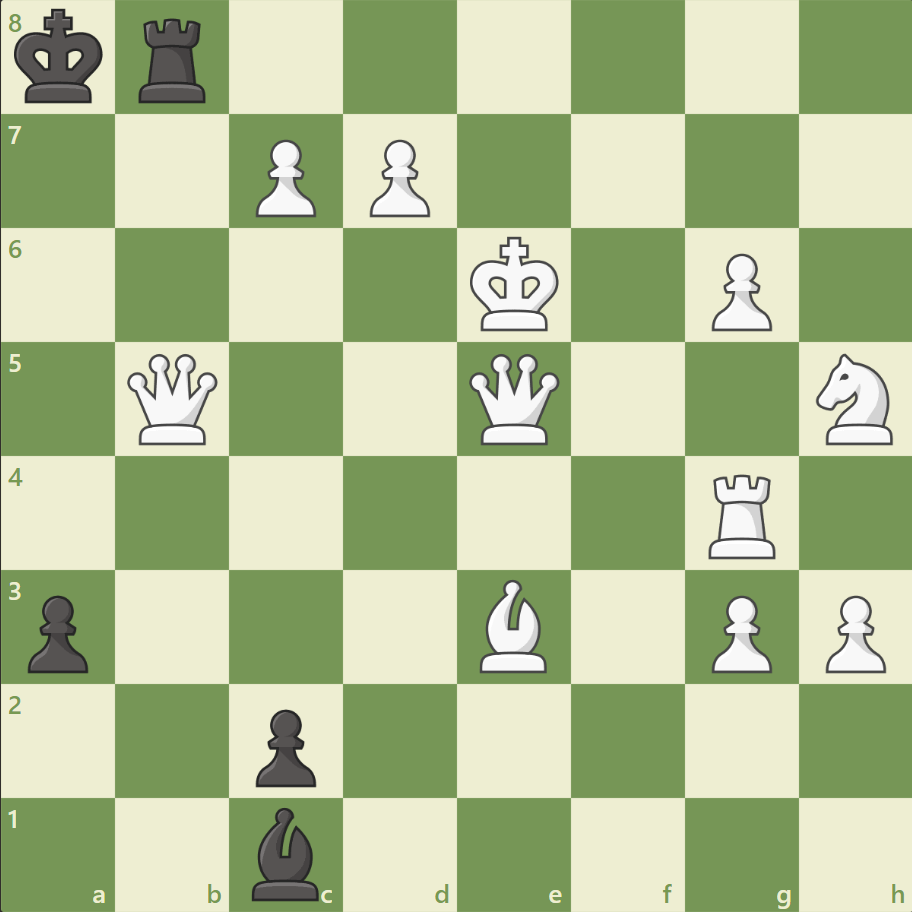B: (471, 574, 555, 676)
K: (465, 231, 565, 339)
N: (806, 348, 903, 450)
P: (247, 132, 322, 223), (701, 246, 776, 337), (701, 586, 776, 677), (361, 132, 435, 223), (815, 586, 889, 677)
Q: (124, 349, 223, 449), (464, 349, 563, 449)
R: (700, 466, 783, 563)
b: (244, 801, 328, 904)
k: (11, 4, 111, 112)
p: (20, 586, 95, 677), (247, 700, 322, 791)
r: (133, 12, 215, 109)
